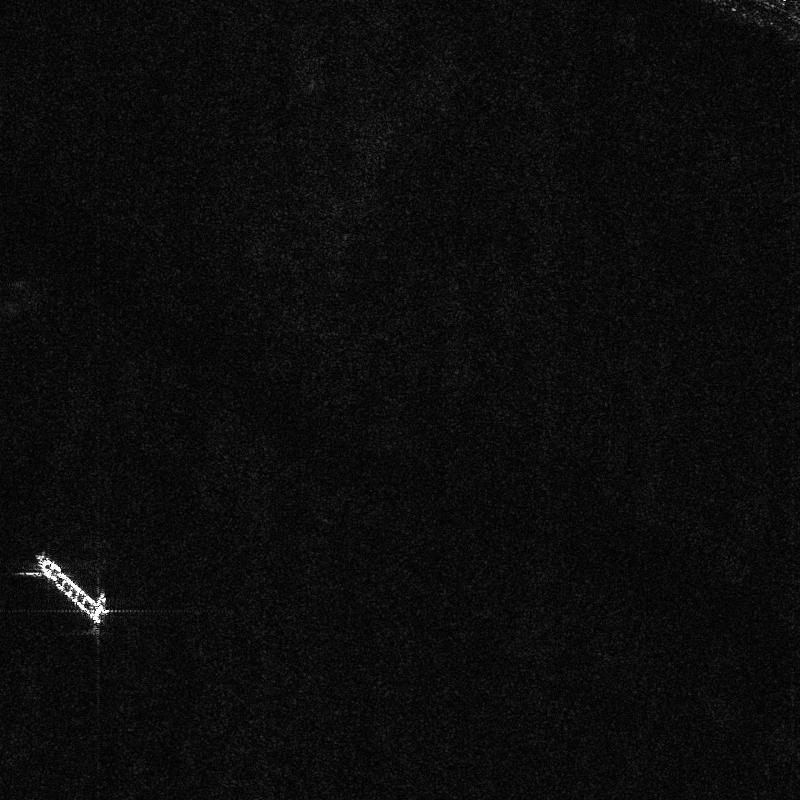ship: (35, 554, 109, 623)
